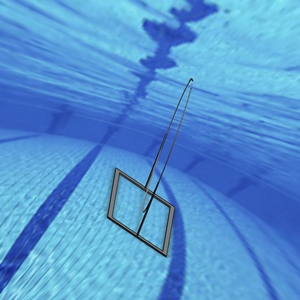circle: (106, 75, 195, 256)
